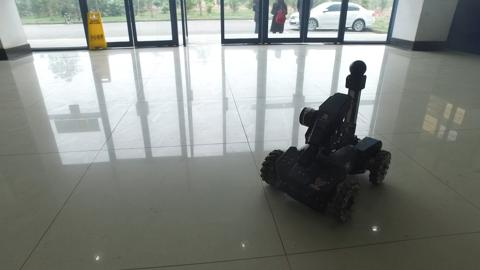car: (287, 1, 379, 33)
chariot: (259, 58, 392, 223)
